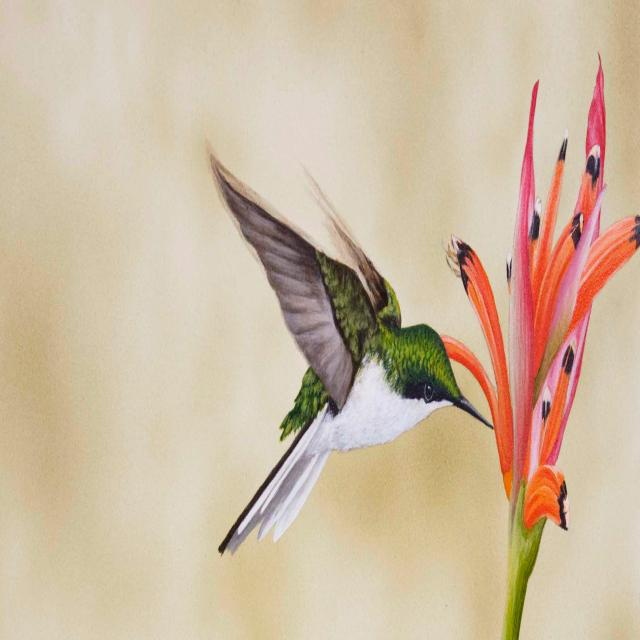Humming Bird: (204, 136, 488, 554)
